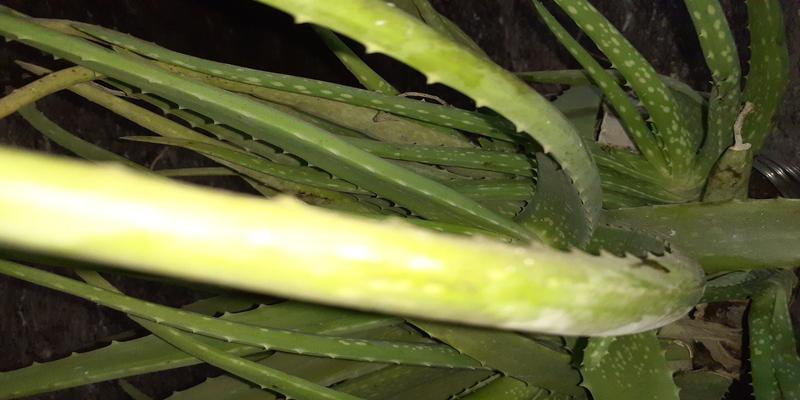Aloevera: (67, 43, 743, 361)
